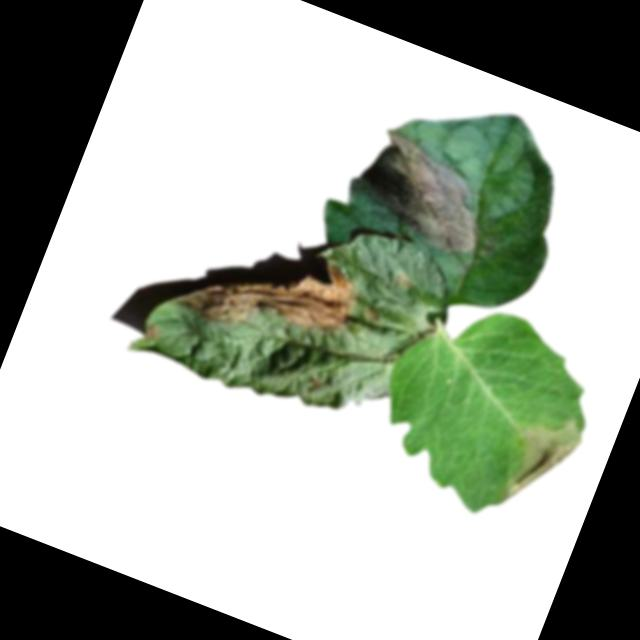Late_blight: (174, 213, 368, 370), (340, 122, 511, 265), (494, 401, 592, 517), (144, 320, 164, 340)
